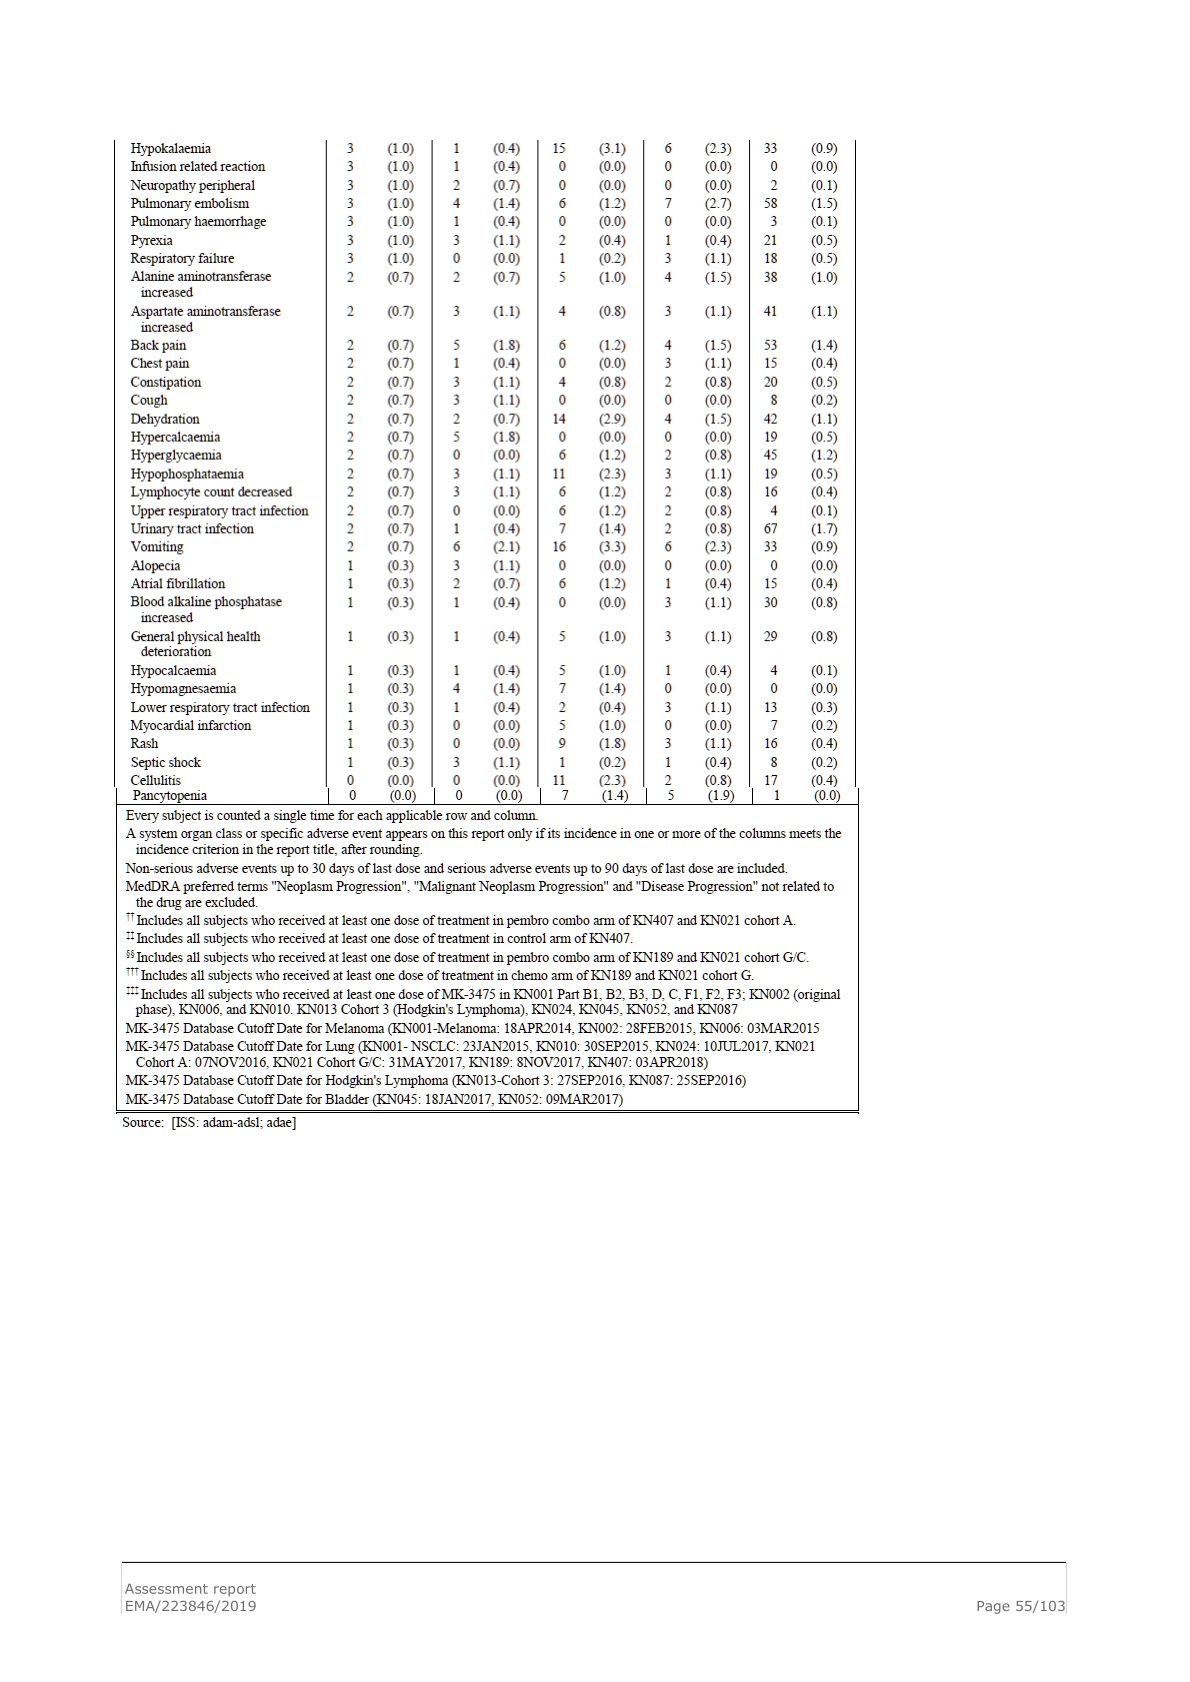partial_lined_merged_cells: (113, 137, 860, 1114)
